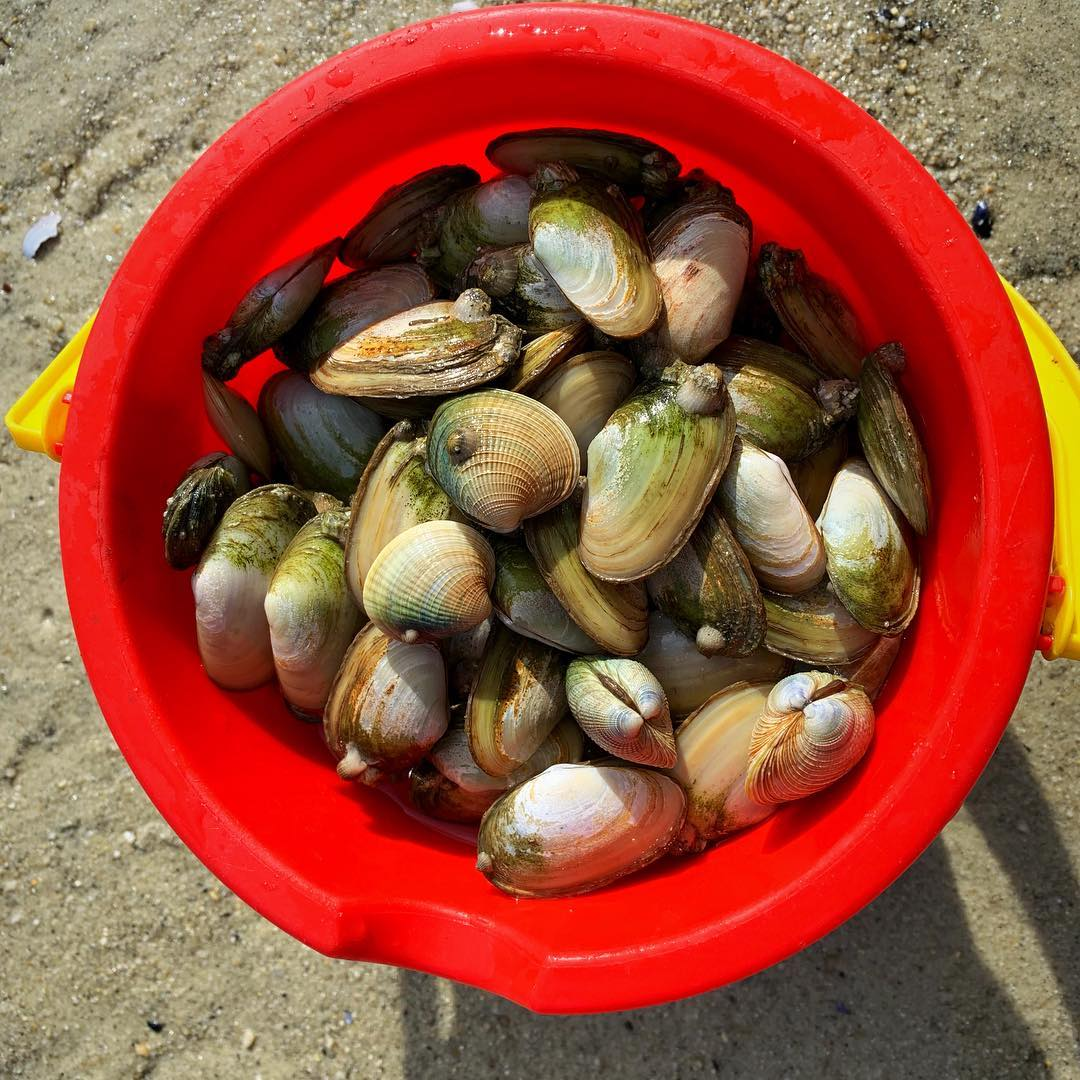cockle: (425, 387, 585, 535), (750, 666, 878, 808), (359, 515, 498, 644), (565, 649, 678, 764)
tuatua: (577, 374, 735, 585), (471, 761, 691, 891), (527, 178, 666, 340), (194, 483, 300, 693), (308, 297, 520, 392), (265, 509, 356, 723), (816, 455, 915, 642), (649, 505, 766, 657), (646, 201, 755, 364), (328, 616, 444, 768), (720, 430, 823, 601), (528, 513, 650, 652), (757, 232, 862, 379), (225, 237, 343, 365), (463, 627, 562, 778), (854, 356, 936, 536), (716, 334, 837, 454), (485, 123, 689, 189), (339, 164, 479, 258), (419, 163, 533, 276), (491, 534, 591, 662), (682, 672, 751, 851), (348, 414, 449, 527), (541, 354, 633, 437)
